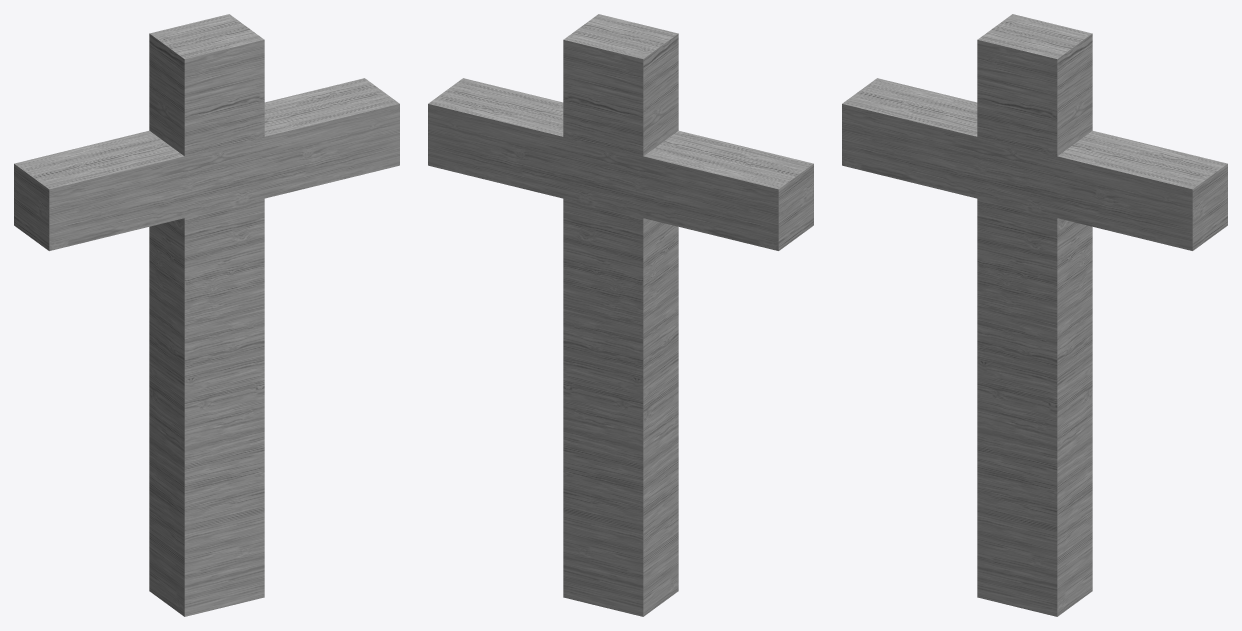
Rendered from cross.glb.
3 renders of one model, left to right at view 1: azimuth 30°, elevation 25°; view 2: azimuth 150°, elevation 25°; view 3: azimuth 330°, elevation 25°, orthographic.
Visible parts, largest first — view 1: Cube; view 2: Cube; view 3: Cube.
Boxes of the visible parts, x1=… form: Cube: x1=14, y1=14, x2=399, y2=616; Cube: x1=428, y1=14, x2=813, y2=616; Cube: x1=842, y1=14, x2=1227, y2=616.
Size of the model in its own units: 5.18 by 7.87 by 0.9.
1 material, 1 textured.
